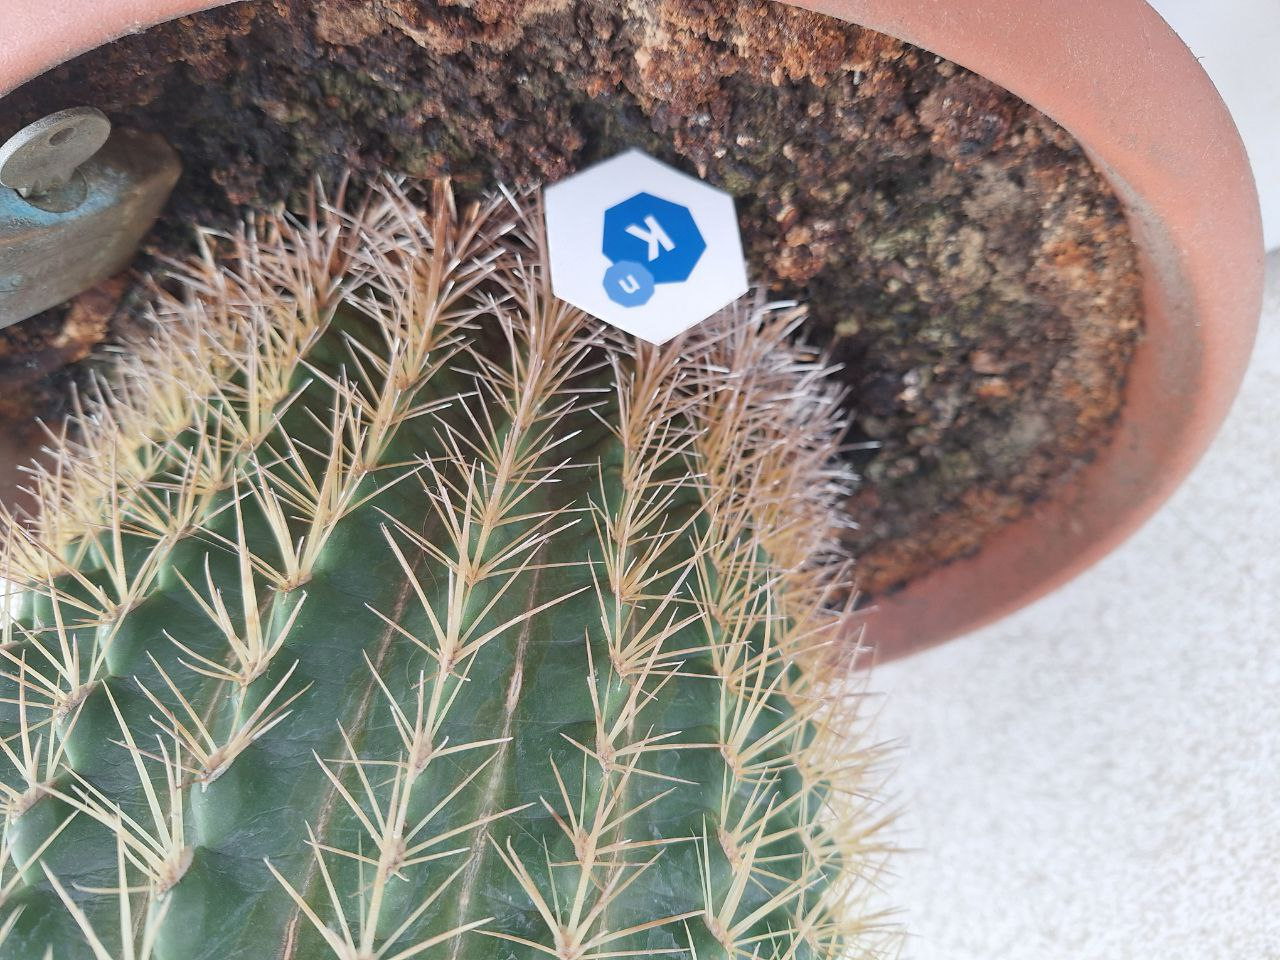knative: (600, 189, 711, 309)
